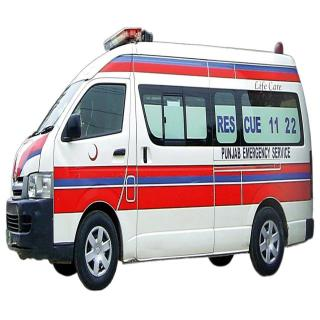Ambulance: (2, 20, 316, 308)
